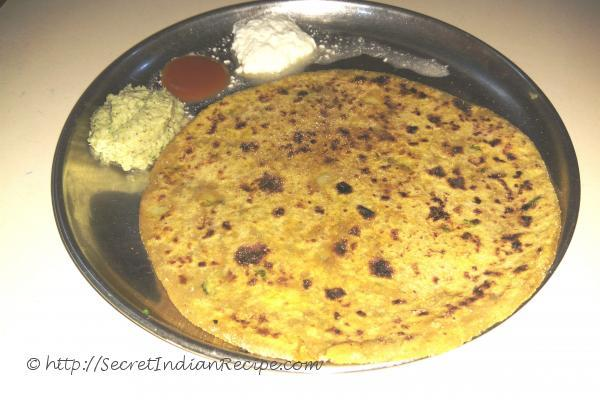aloo_paratha: (144, 68, 561, 363)
